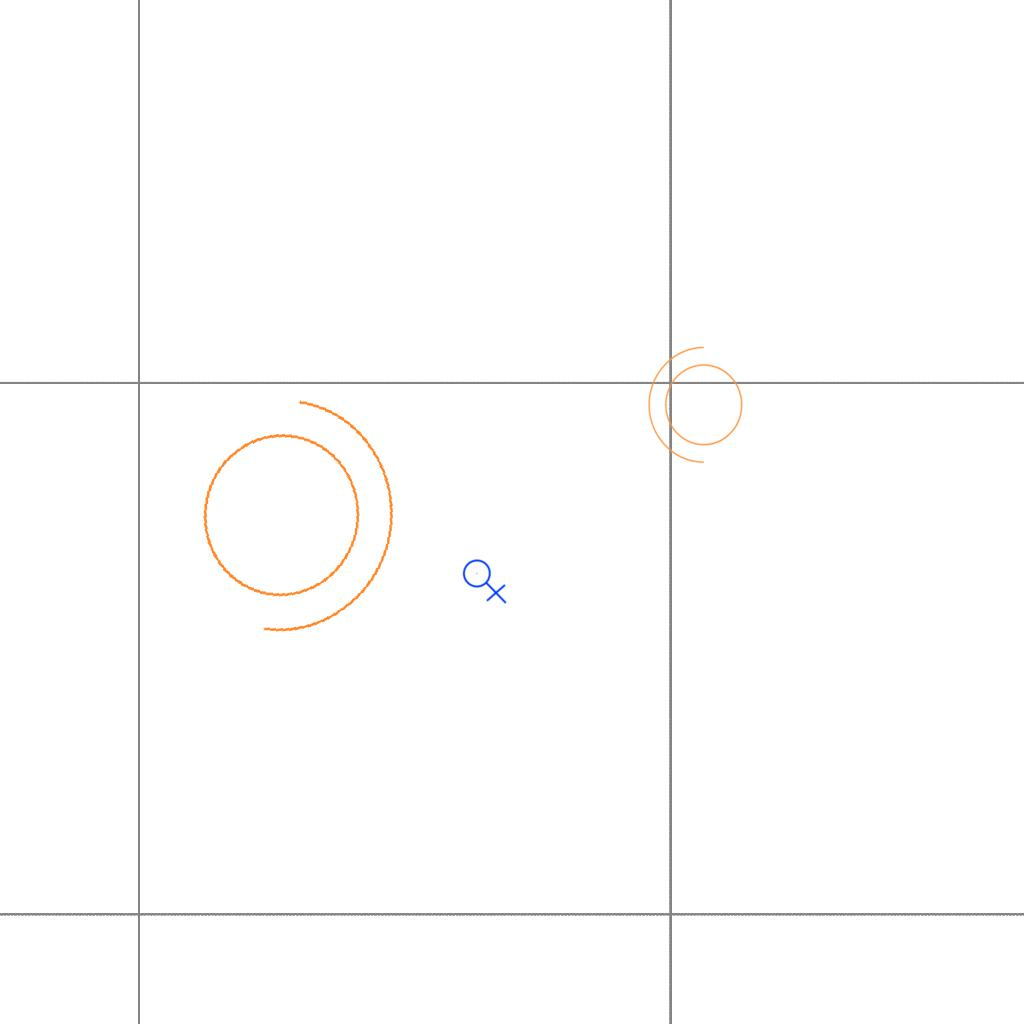Elektroanschluss_allgemein_230V_Geraeteanschlussdose_230V: (462, 555, 509, 604)
Scheinwerfer_fuer_Alarmbeleuchtung: (160, 362, 424, 659), (643, 342, 755, 474)
